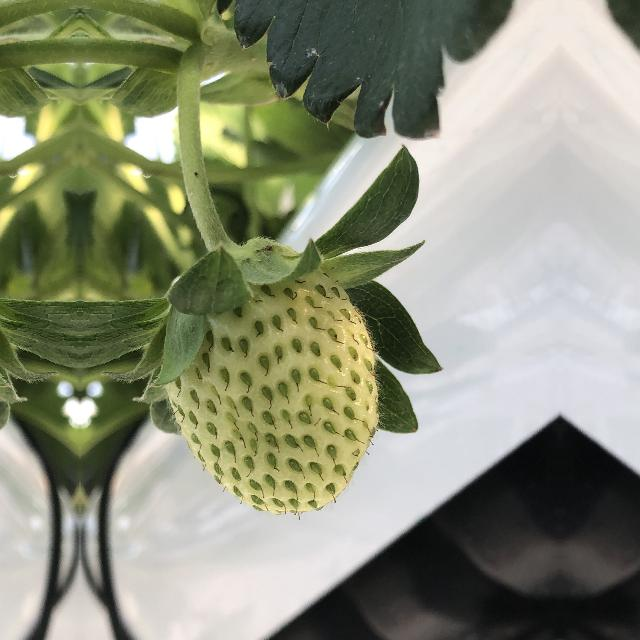Health_25: (160, 254, 388, 520)
